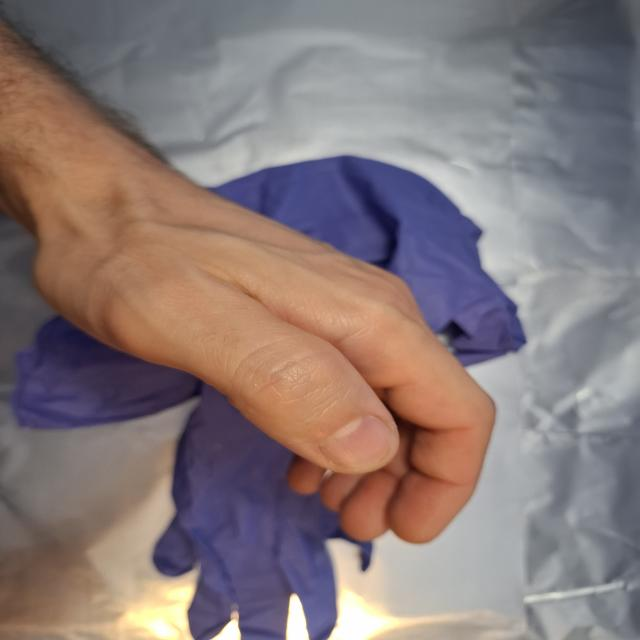glove_off: (27, 172, 501, 548)
